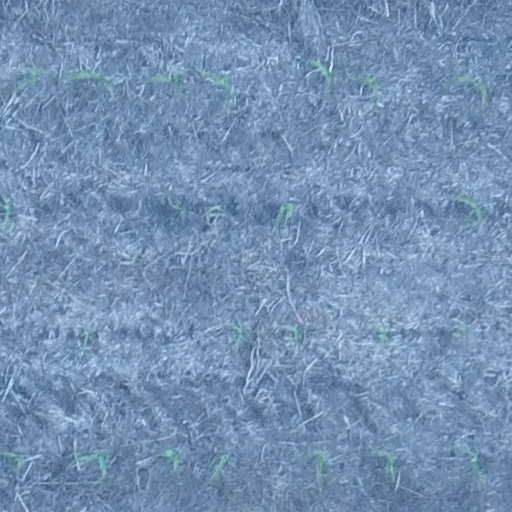planta: (56, 67, 120, 94), (197, 67, 235, 111), (448, 72, 491, 110), (68, 446, 112, 483), (451, 445, 486, 489), (306, 56, 339, 98), (366, 445, 399, 486), (148, 444, 182, 482), (144, 68, 184, 98), (450, 192, 485, 223), (202, 450, 231, 487), (11, 63, 45, 94), (305, 445, 328, 490), (355, 72, 383, 108), (276, 320, 306, 352), (365, 316, 394, 348), (224, 320, 247, 352), (273, 199, 298, 227), (167, 200, 187, 219), (205, 202, 220, 218)
